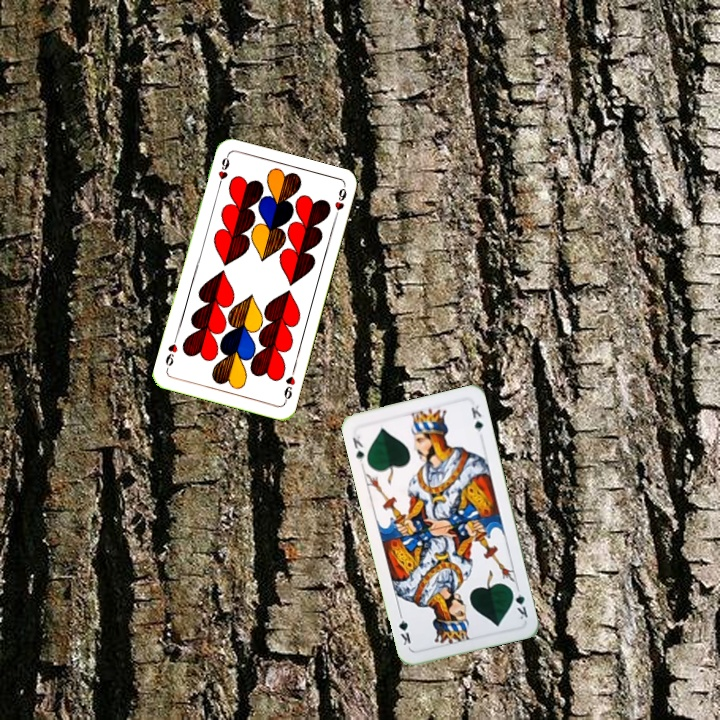GK: (507, 582, 530, 622), (348, 432, 367, 465)
H9: (213, 152, 232, 192), (280, 365, 298, 405)
